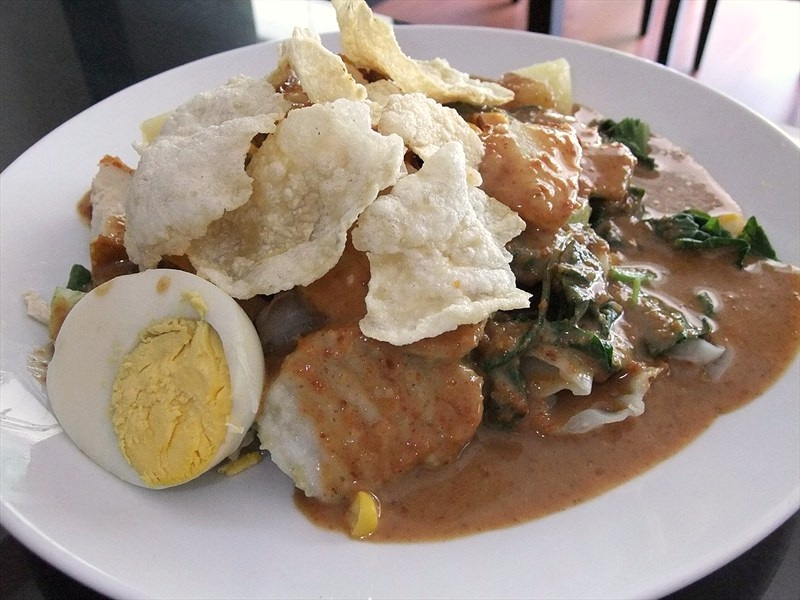Gado-Gado: (87, 44, 748, 526)
